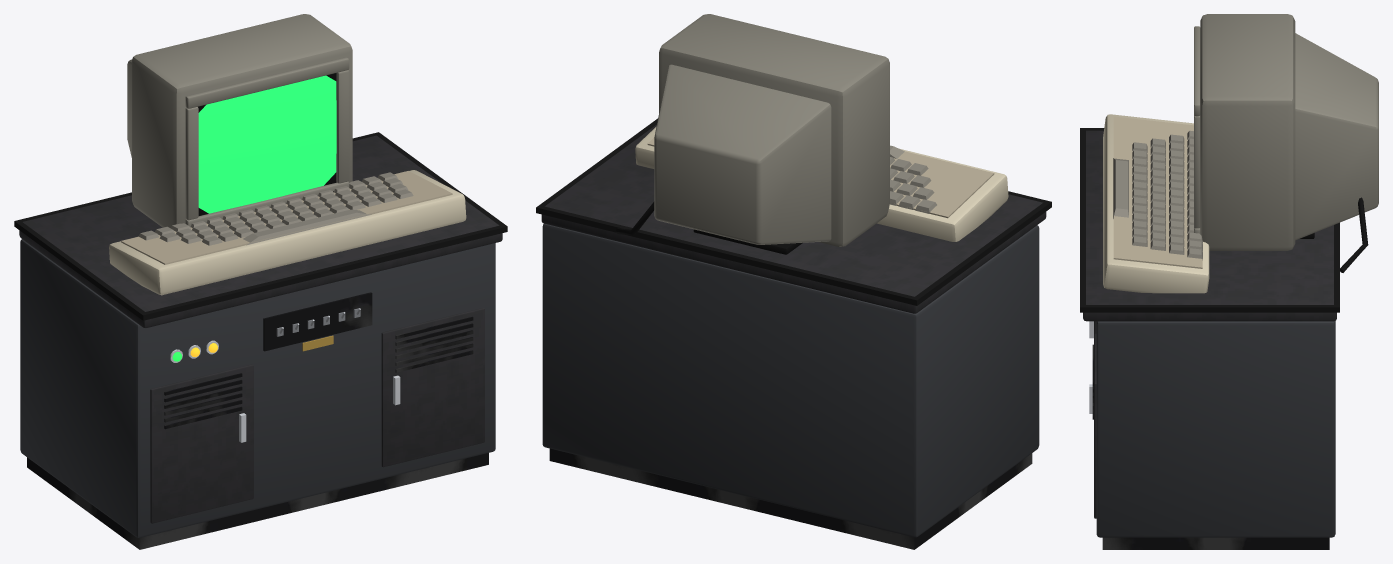
File: crt_terminal.glb
The picture shows the model from 3 angles, left to right: view 1: azimuth 30°, elevation 25°; view 2: azimuth 150°, elevation 25°; view 3: azimuth 270°, elevation 25°; orthographic projection. The views are drawn at different scales.
Parts seen in each view (by area): view 1: console, tShell, termScreen, tkKeys; view 2: console, tShell, tkKeys; view 3: console, tShell, tkKeys, termCable.
Part boxes in pixels (left/top/right/bottom): console: left=14, top=132, right=507, bottom=549; tShell: left=127, top=14, right=352, bottom=227; termScreen: left=198, top=75, right=336, bottom=213; tkKeys: left=138, top=172, right=413, bottom=245; console: left=536, top=118, right=1051, bottom=549; tShell: left=654, top=14, right=889, bottom=254; tkKeys: left=890, top=145, right=936, bottom=213; console: left=1080, top=114, right=1339, bottom=549; tShell: left=1194, top=14, right=1378, bottom=250; tkKeys: left=1113, top=130, right=1202, bottom=260; termCable: left=1340, top=197, right=1368, bottom=272.
Size of the model in its own units: 1.42 by 1.51 by 1.
15 materials, 4 textured.
